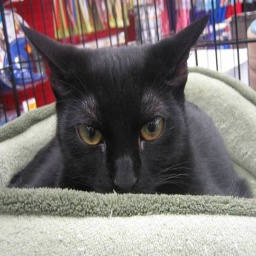cat: (11, 14, 250, 201)
